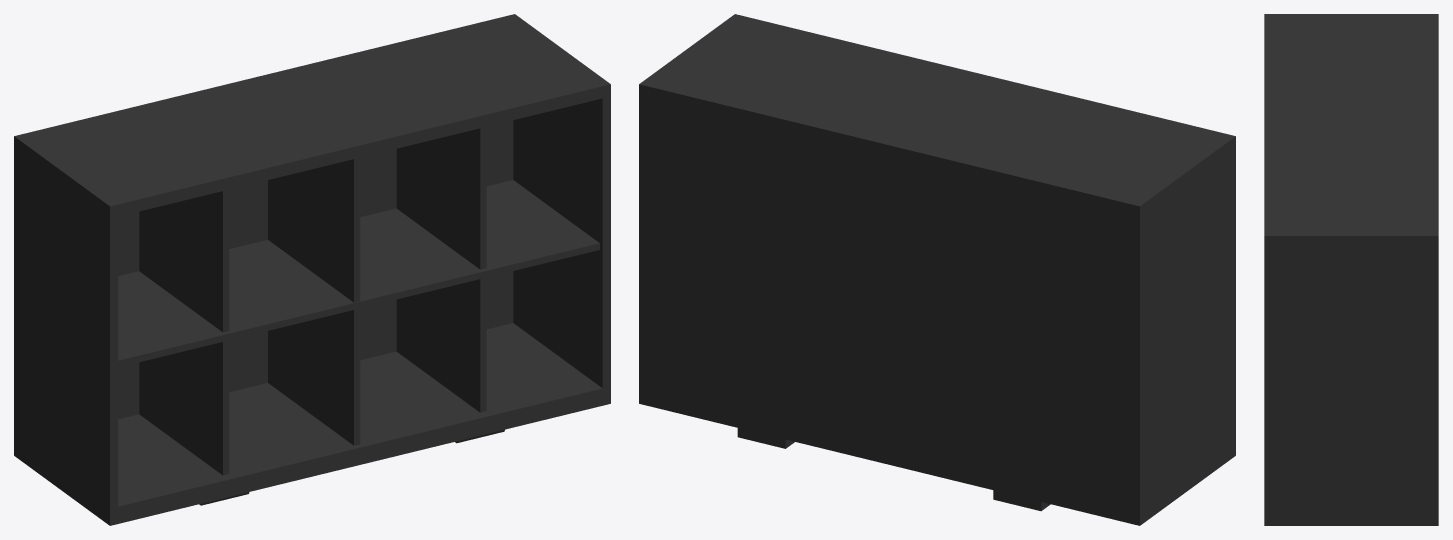
File: Expositor_2x1_C.obj
3 renders of one model, left to right at view 1: azimuth 30°, elevation 25°; view 2: azimuth 150°, elevation 25°; view 3: azimuth 270°, elevation 25°, orthographic. The views are drawn at different scales.
Visible parts, largest first — view 1: Expositor_2x1_C; view 2: Expositor_2x1_C; view 3: Expositor_2x1_C.
Part boxes in pixels (left/top/right/bottom): Expositor_2x1_C: left=14, top=14, right=610, bottom=525; Expositor_2x1_C: left=639, top=14, right=1235, bottom=525; Expositor_2x1_C: left=1264, top=14, right=1438, bottom=525.
Size of the model in its own units: 1.37 by 0.857 by 0.4532.
